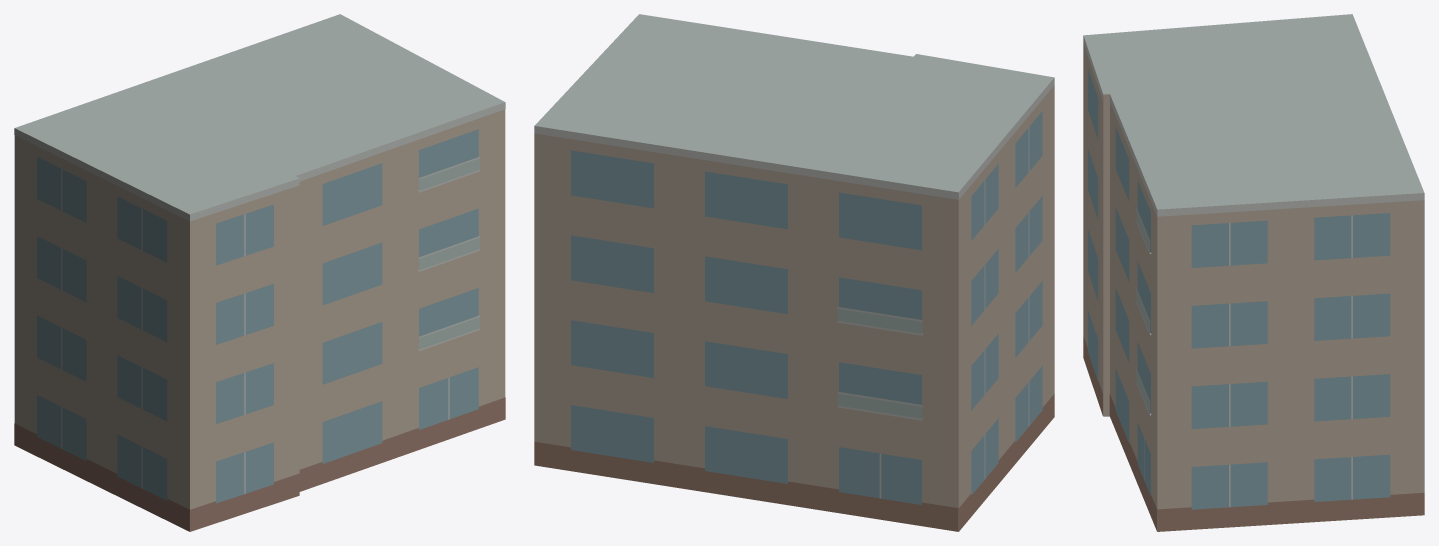
The model's file is survey-upis-32742963.glb.
3 views of the same model, side by side, from view 1: azimuth 30°, elevation 25°; view 2: azimuth 150°, elevation 25°; view 3: azimuth 270°, elevation 25° (orthographic). The views are drawn at different scales.
Parts seen in each view (by area): view 1: survey-upis-32742963.tmp; view 2: survey-upis-32742963.tmp; view 3: survey-upis-32742963.tmp.
Boxes of the visible parts, x1,y1,x2,y2 form: survey-upis-32742963.tmp: [14, 14, 505, 531]; survey-upis-32742963.tmp: [534, 14, 1054, 531]; survey-upis-32742963.tmp: [1083, 14, 1424, 531].
Size of the model in its own units: 14.46 by 11.1 by 10.66.
